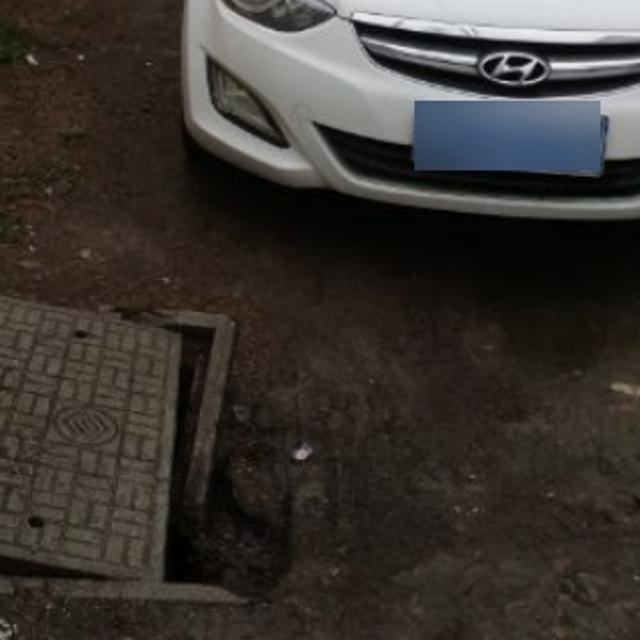uncovered: (0, 293, 236, 606)
